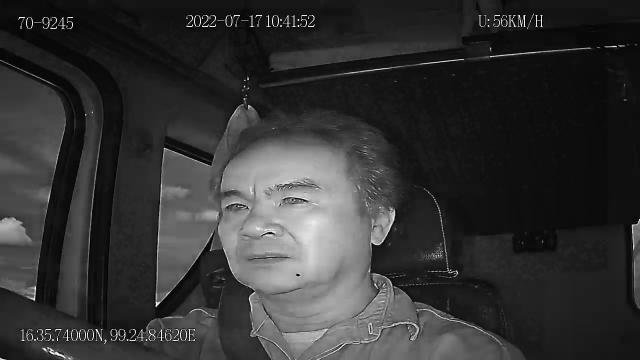SafeDriving: (272, 185, 323, 213), (218, 191, 256, 219)
Seatbelt: (217, 282, 273, 360)
